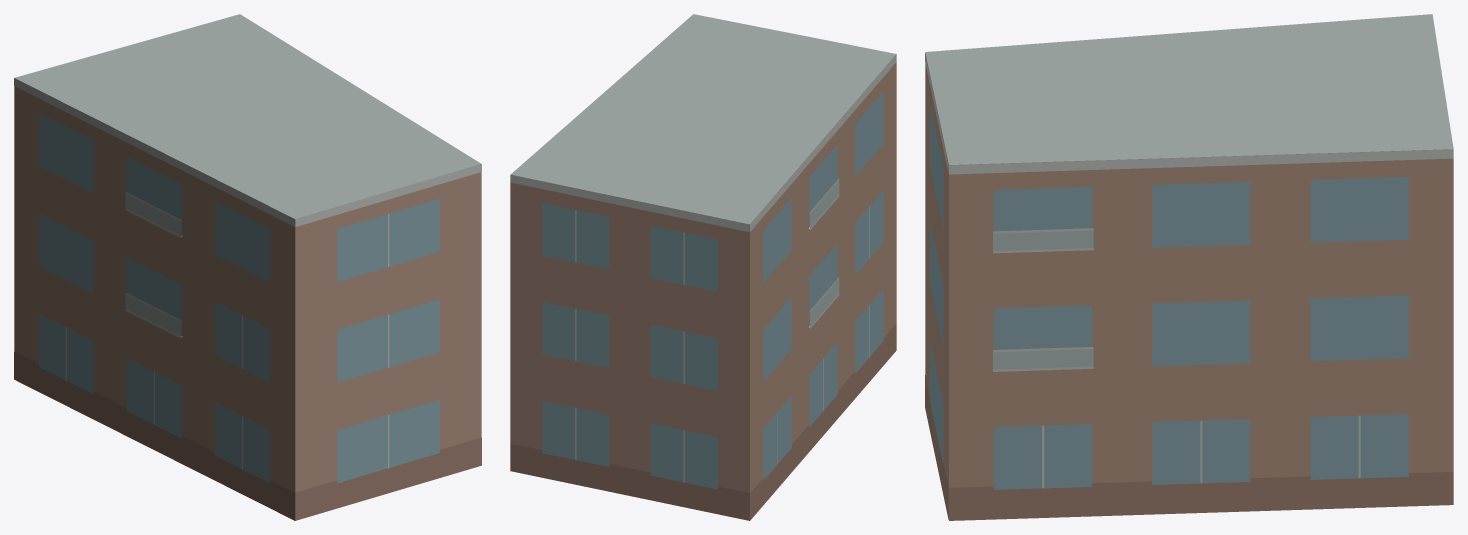
File: survey-upis-33027286.glb
3 views of the same model, side by side, from view 1: azimuth 30°, elevation 25°; view 2: azimuth 150°, elevation 25°; view 3: azimuth 270°, elevation 25° (orthographic). The views are drawn at different scales.
Parts seen in each view (by area): view 1: survey-upis-33027286.tmp; view 2: survey-upis-33027286.tmp; view 3: survey-upis-33027286.tmp.
Part boxes in pixels (x1,y1,x2,y2): survey-upis-33027286.tmp: (14, 14, 481, 520); survey-upis-33027286.tmp: (510, 14, 896, 520); survey-upis-33027286.tmp: (925, 14, 1453, 520).
Bounding box in the file's own units: 8.34 × 9.15 × 12.33.
